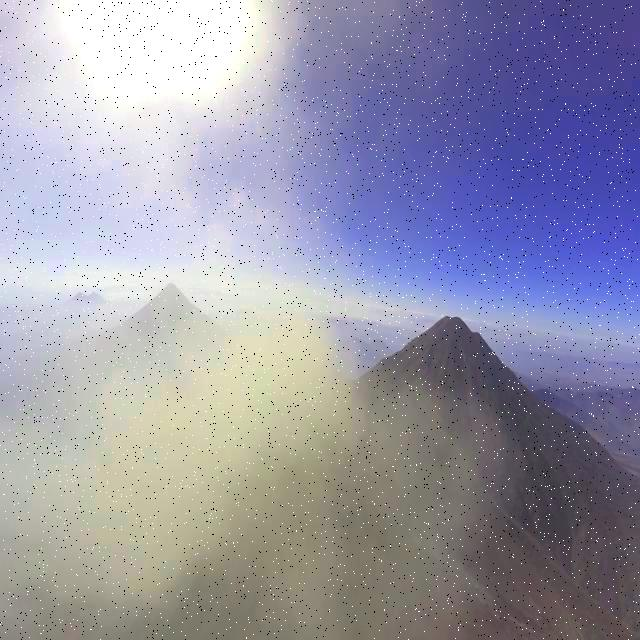Plume: (0, 282, 517, 640)
